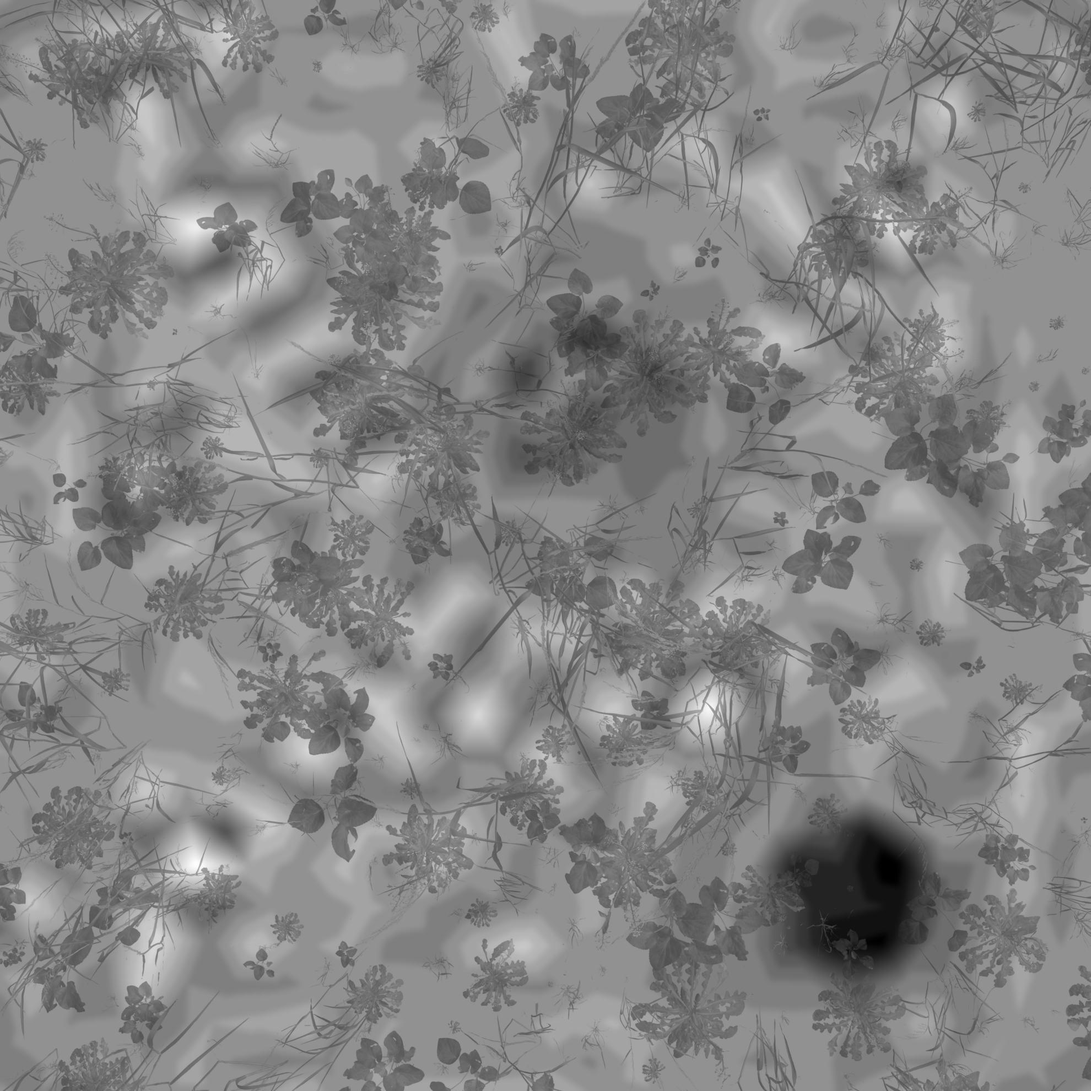landmine: (770, 811, 944, 969)
